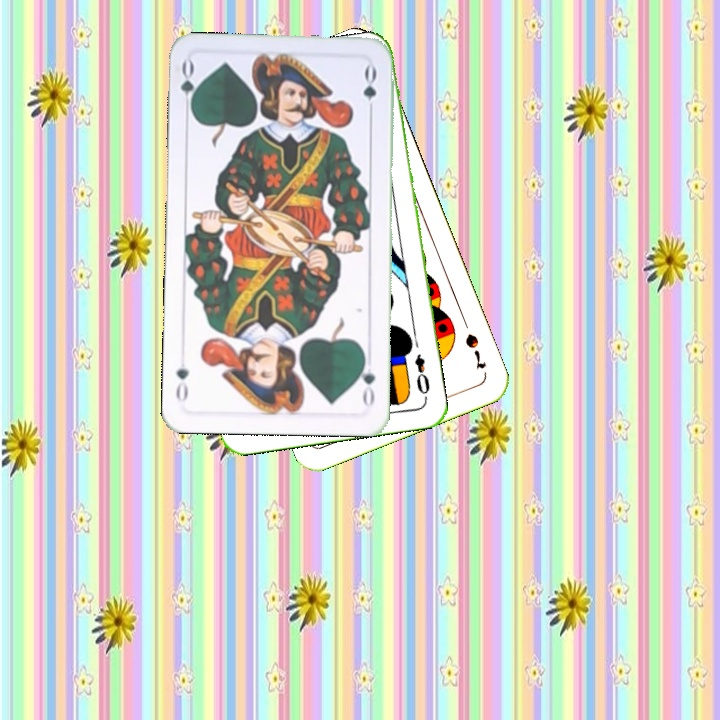EO: (411, 350, 433, 402)
GO: (176, 57, 202, 117), (355, 351, 378, 409)
S7: (461, 329, 489, 372)
